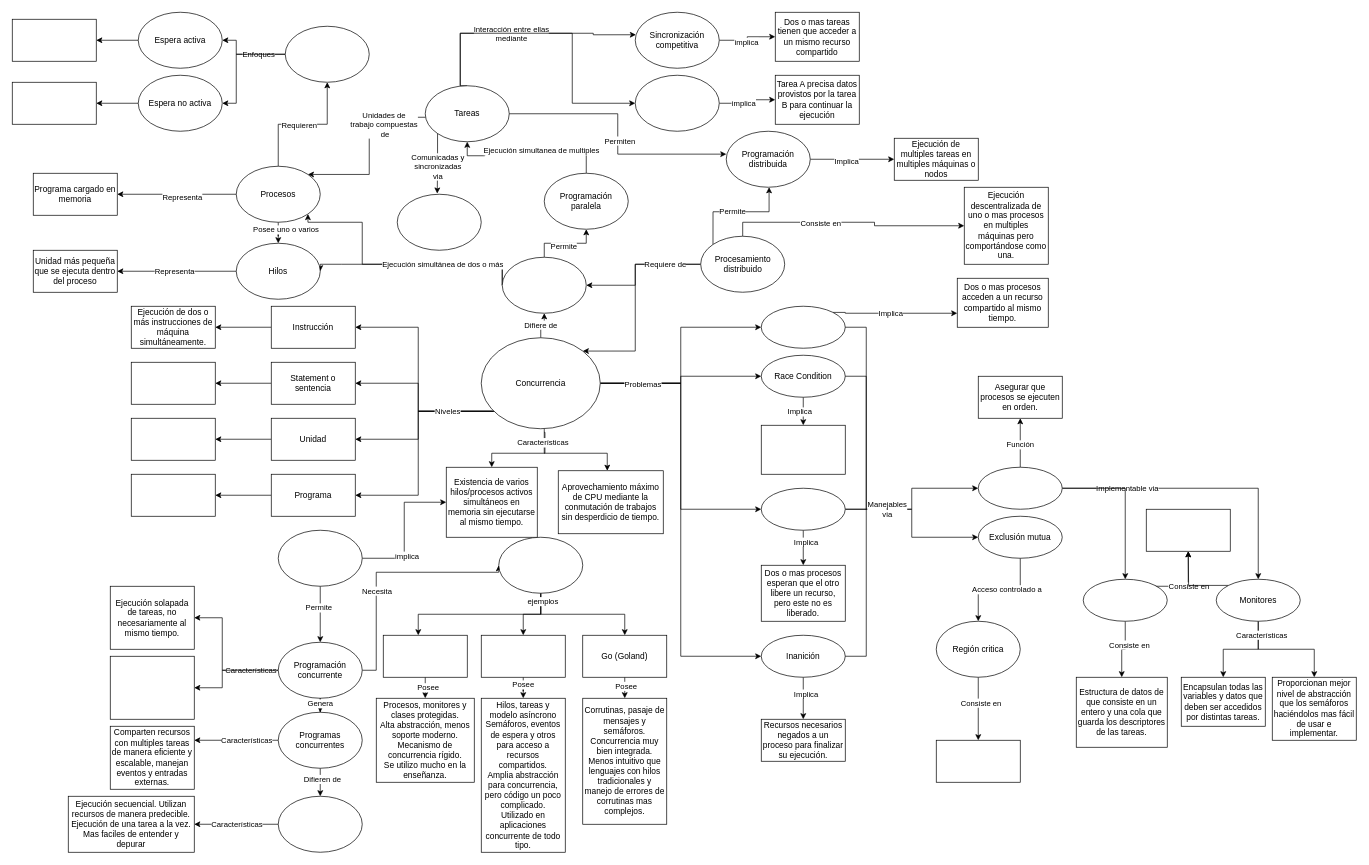
This 1369x865 diagram has some shape labels left out. Here are the shapes that lost their labels. From the top down, the centre of each, then its label:
At [54,40]: "Proceso compute por procesador mientras espera E/S u otro recurso.".
At [327,54]: "Sincronización".
At [54,103]: "Proceso guardado en memoria pero no compitiendo por procesador.".
At [677,103]: "Sincronización cooperativa".
At [439,222]: "Pasaje de mensajes".
At [544,285]: "Paralelismo".
At [803,327]: "Interferencia entre procesos".
At [173,383]: "Ejecución de dos o más sentencias de manera simultánea.".
At [173,439]: "Ejecución de dos o más unidades de programa de manera simultánea.".
At [803,449]: "Dos o mas procesos compiten para acceder al mismo recurso compartido.".
At [173,495]: "Ejecución de dos o más programas de manera simultánea.".
At [1020,488]: "Sincronización de procesos".
At [803,509]: "Interbloqueo".
At [1188,530]: "Mecanismo para proveer sincronización entre tareas.".
At [320,558]: "Multiprogramación".
At [540,565]: "Lenguajes concurrentes".
At [1125,600]: "Semaforos".
At [425,656]: "Pascal concurrente".
At [523,656]: "C#".
At [152,687]: "Enfoque para la codificación de programas que permitan la concurrencia.".
At [978,761]: "Sección de código y datos accedida por multiples procesos.".
At [320,824]: "Programas secuenciales".
